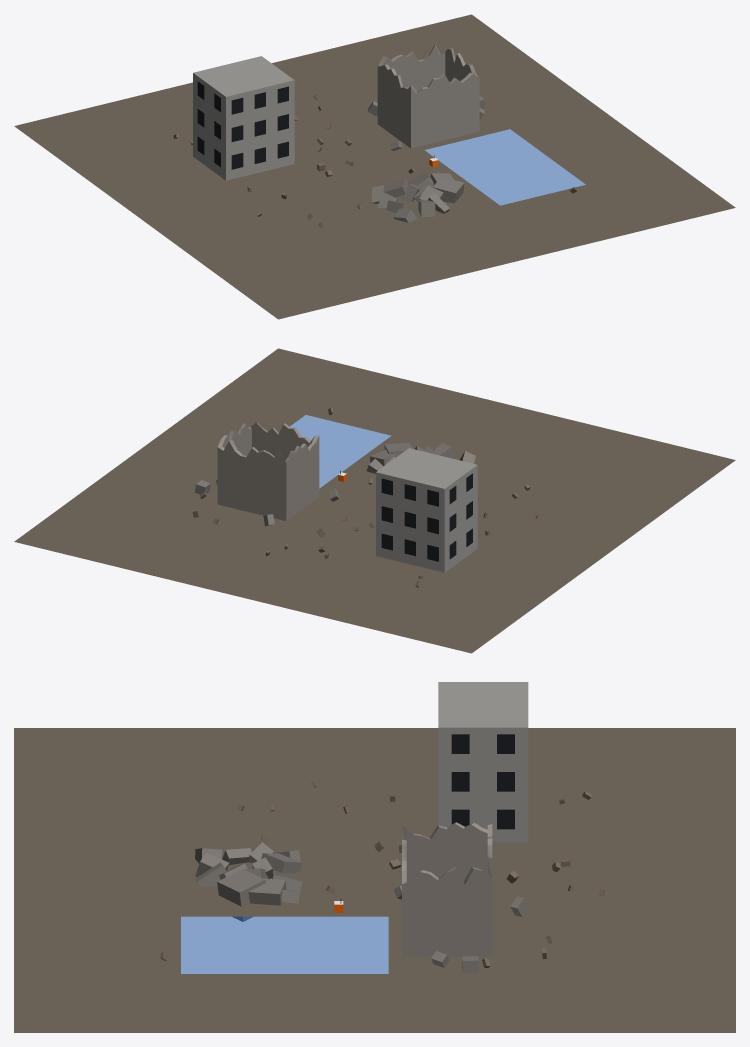
The model's file is disaster_site.glb.
3 renders of one model, top to bottom at view 1: azimuth 30°, elevation 25°; view 2: azimuth 150°, elevation 25°; view 3: azimuth 270°, elevation 25°, orthographic. The views are drawn at different scales.
Parts seen in each view (by area): view 1: Ground, Building_A, Building_B, Flood_Water, Building_C_Rubble, Building_A_Windows, Debris_Scatter; view 2: Ground, Building_A, Building_B, Flood_Water, Building_A_Windows, Building_C_Rubble, Debris_Scatter; view 3: Ground, Flood_Water, Building_A, Building_B, Building_C_Rubble, Building_A_Windows, Debris_Scatter, Building_B_Debris.
Boxes of the visible parts, box(x1,y1,x2,y2) form: Ground: box(14, 14, 735, 319); Building_A: box(193, 56, 294, 180); Building_B: box(377, 44, 479, 148); Flood_Water: box(425, 129, 585, 205); Building_C_Rubble: box(371, 171, 464, 222); Building_A_Windows: box(197, 81, 288, 169); Debris_Scatter: box(173, 95, 577, 228); Ground: box(14, 348, 735, 653); Building_A: box(376, 448, 477, 572); Building_B: box(217, 422, 319, 520); Flood_Water: box(290, 415, 390, 488); Building_A_Windows: box(381, 473, 472, 561); Building_C_Rubble: box(366, 442, 475, 473); Debris_Scatter: box(192, 407, 538, 587); Ground: box(14, 728, 735, 1032); Flood_Water: box(181, 916, 388, 973); Building_A: box(438, 682, 528, 842); Building_B: box(402, 822, 492, 956); Building_C_Rubble: box(194, 842, 302, 921); Building_A_Windows: box(451, 734, 514, 829); Debris_Scatter: box(160, 781, 604, 967); Building_B_Debris: box(393, 885, 528, 973).
Bounding box in the file's own units: 40 × 8.34 × 40.
